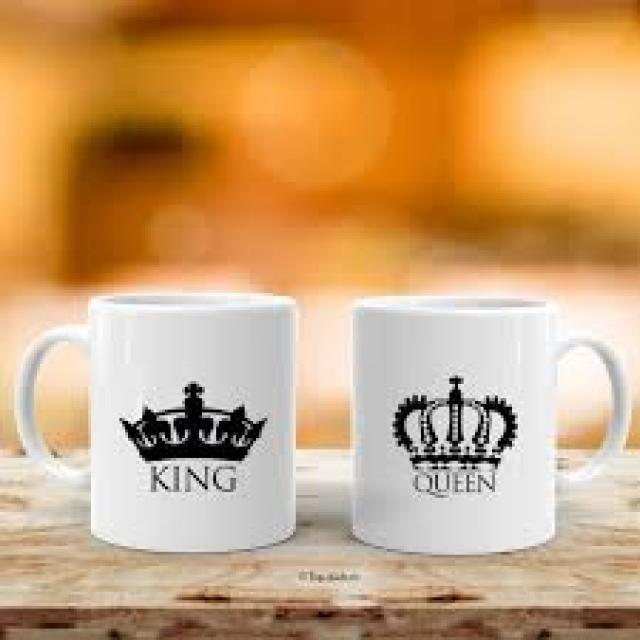taza: (12, 279, 316, 546), (342, 286, 632, 554)
